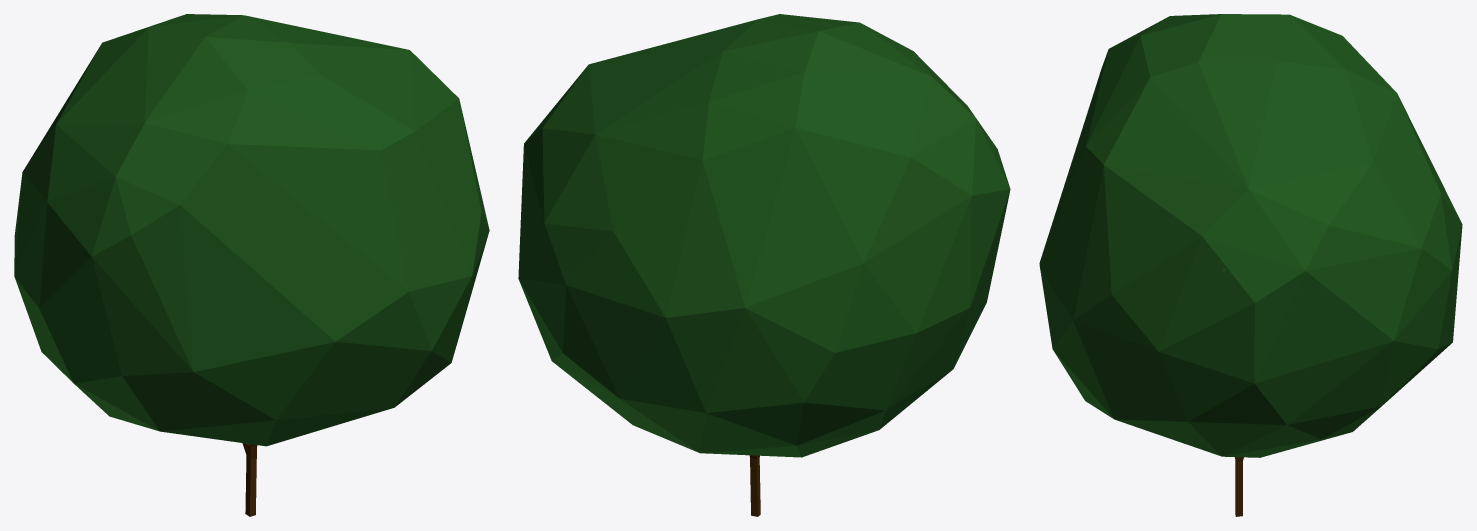
The model's file is tree4.fbx.
The picture shows the model from 3 angles, left to right: view 1: azimuth 30°, elevation 25°; view 2: azimuth 150°, elevation 25°; view 3: azimuth 270°, elevation 25°; orthographic projection. The views are drawn at different scales.
Parts seen in each view (by area): view 1: Tree3; view 2: Tree3; view 3: Tree3.
Boxes of the visible parts, box(x1,y1,x2,y2) form: Tree3: box(14, 14, 489, 516); Tree3: box(518, 14, 1010, 516); Tree3: box(1039, 14, 1462, 516).
Bounding box in the file's own units: 3662 × 4056 × 3267.
